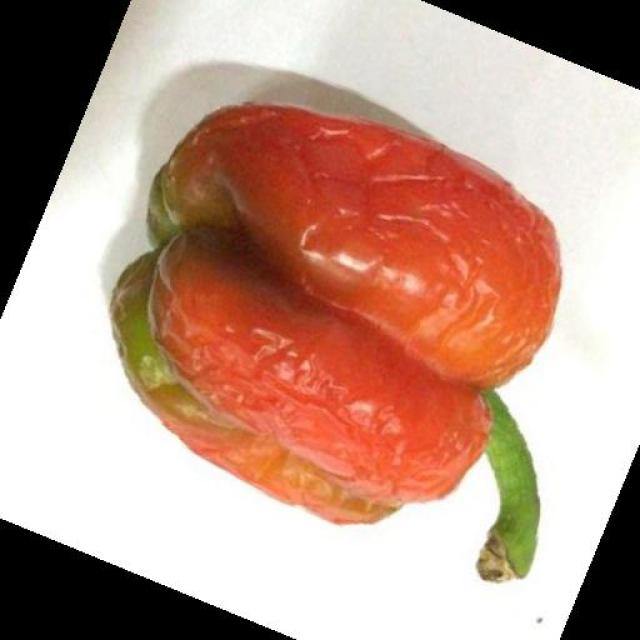Stale_Capsicum: (120, 106, 565, 547)
